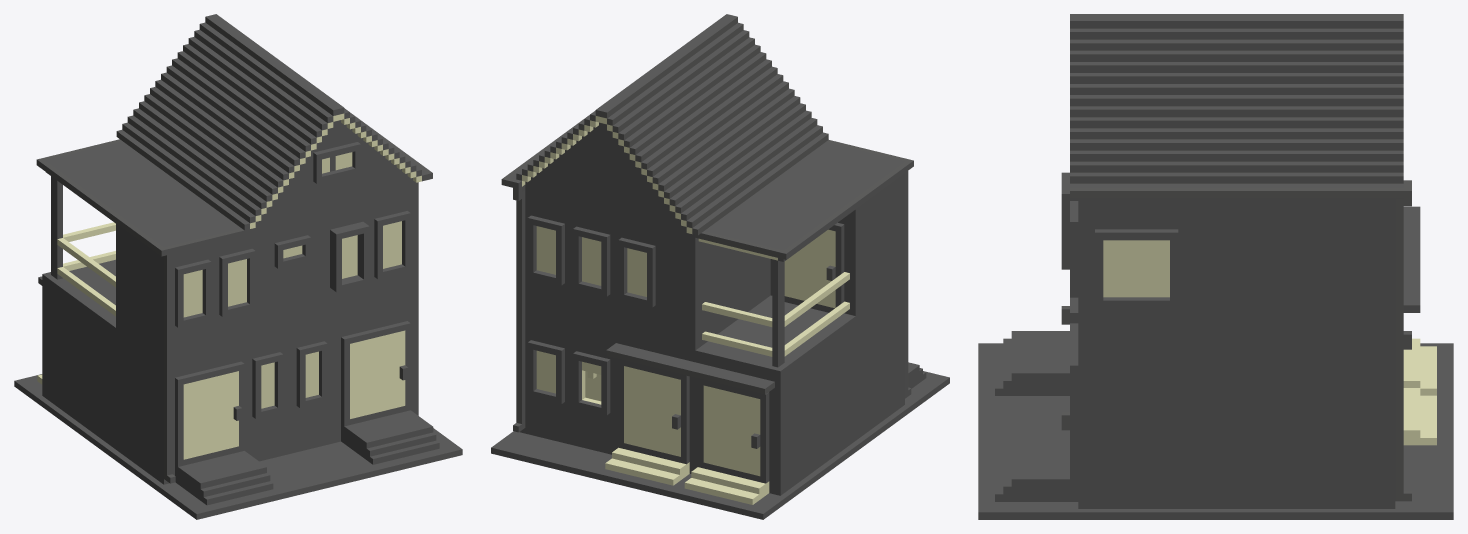
The model's file is bld_house8a.obj.
3 renders of one model, left to right at view 1: azimuth 30°, elevation 25°; view 2: azimuth 150°, elevation 25°; view 3: azimuth 270°, elevation 25°, orthographic. The views are drawn at different scales.
Size of the model in its own units: 49 by 59 by 57.
